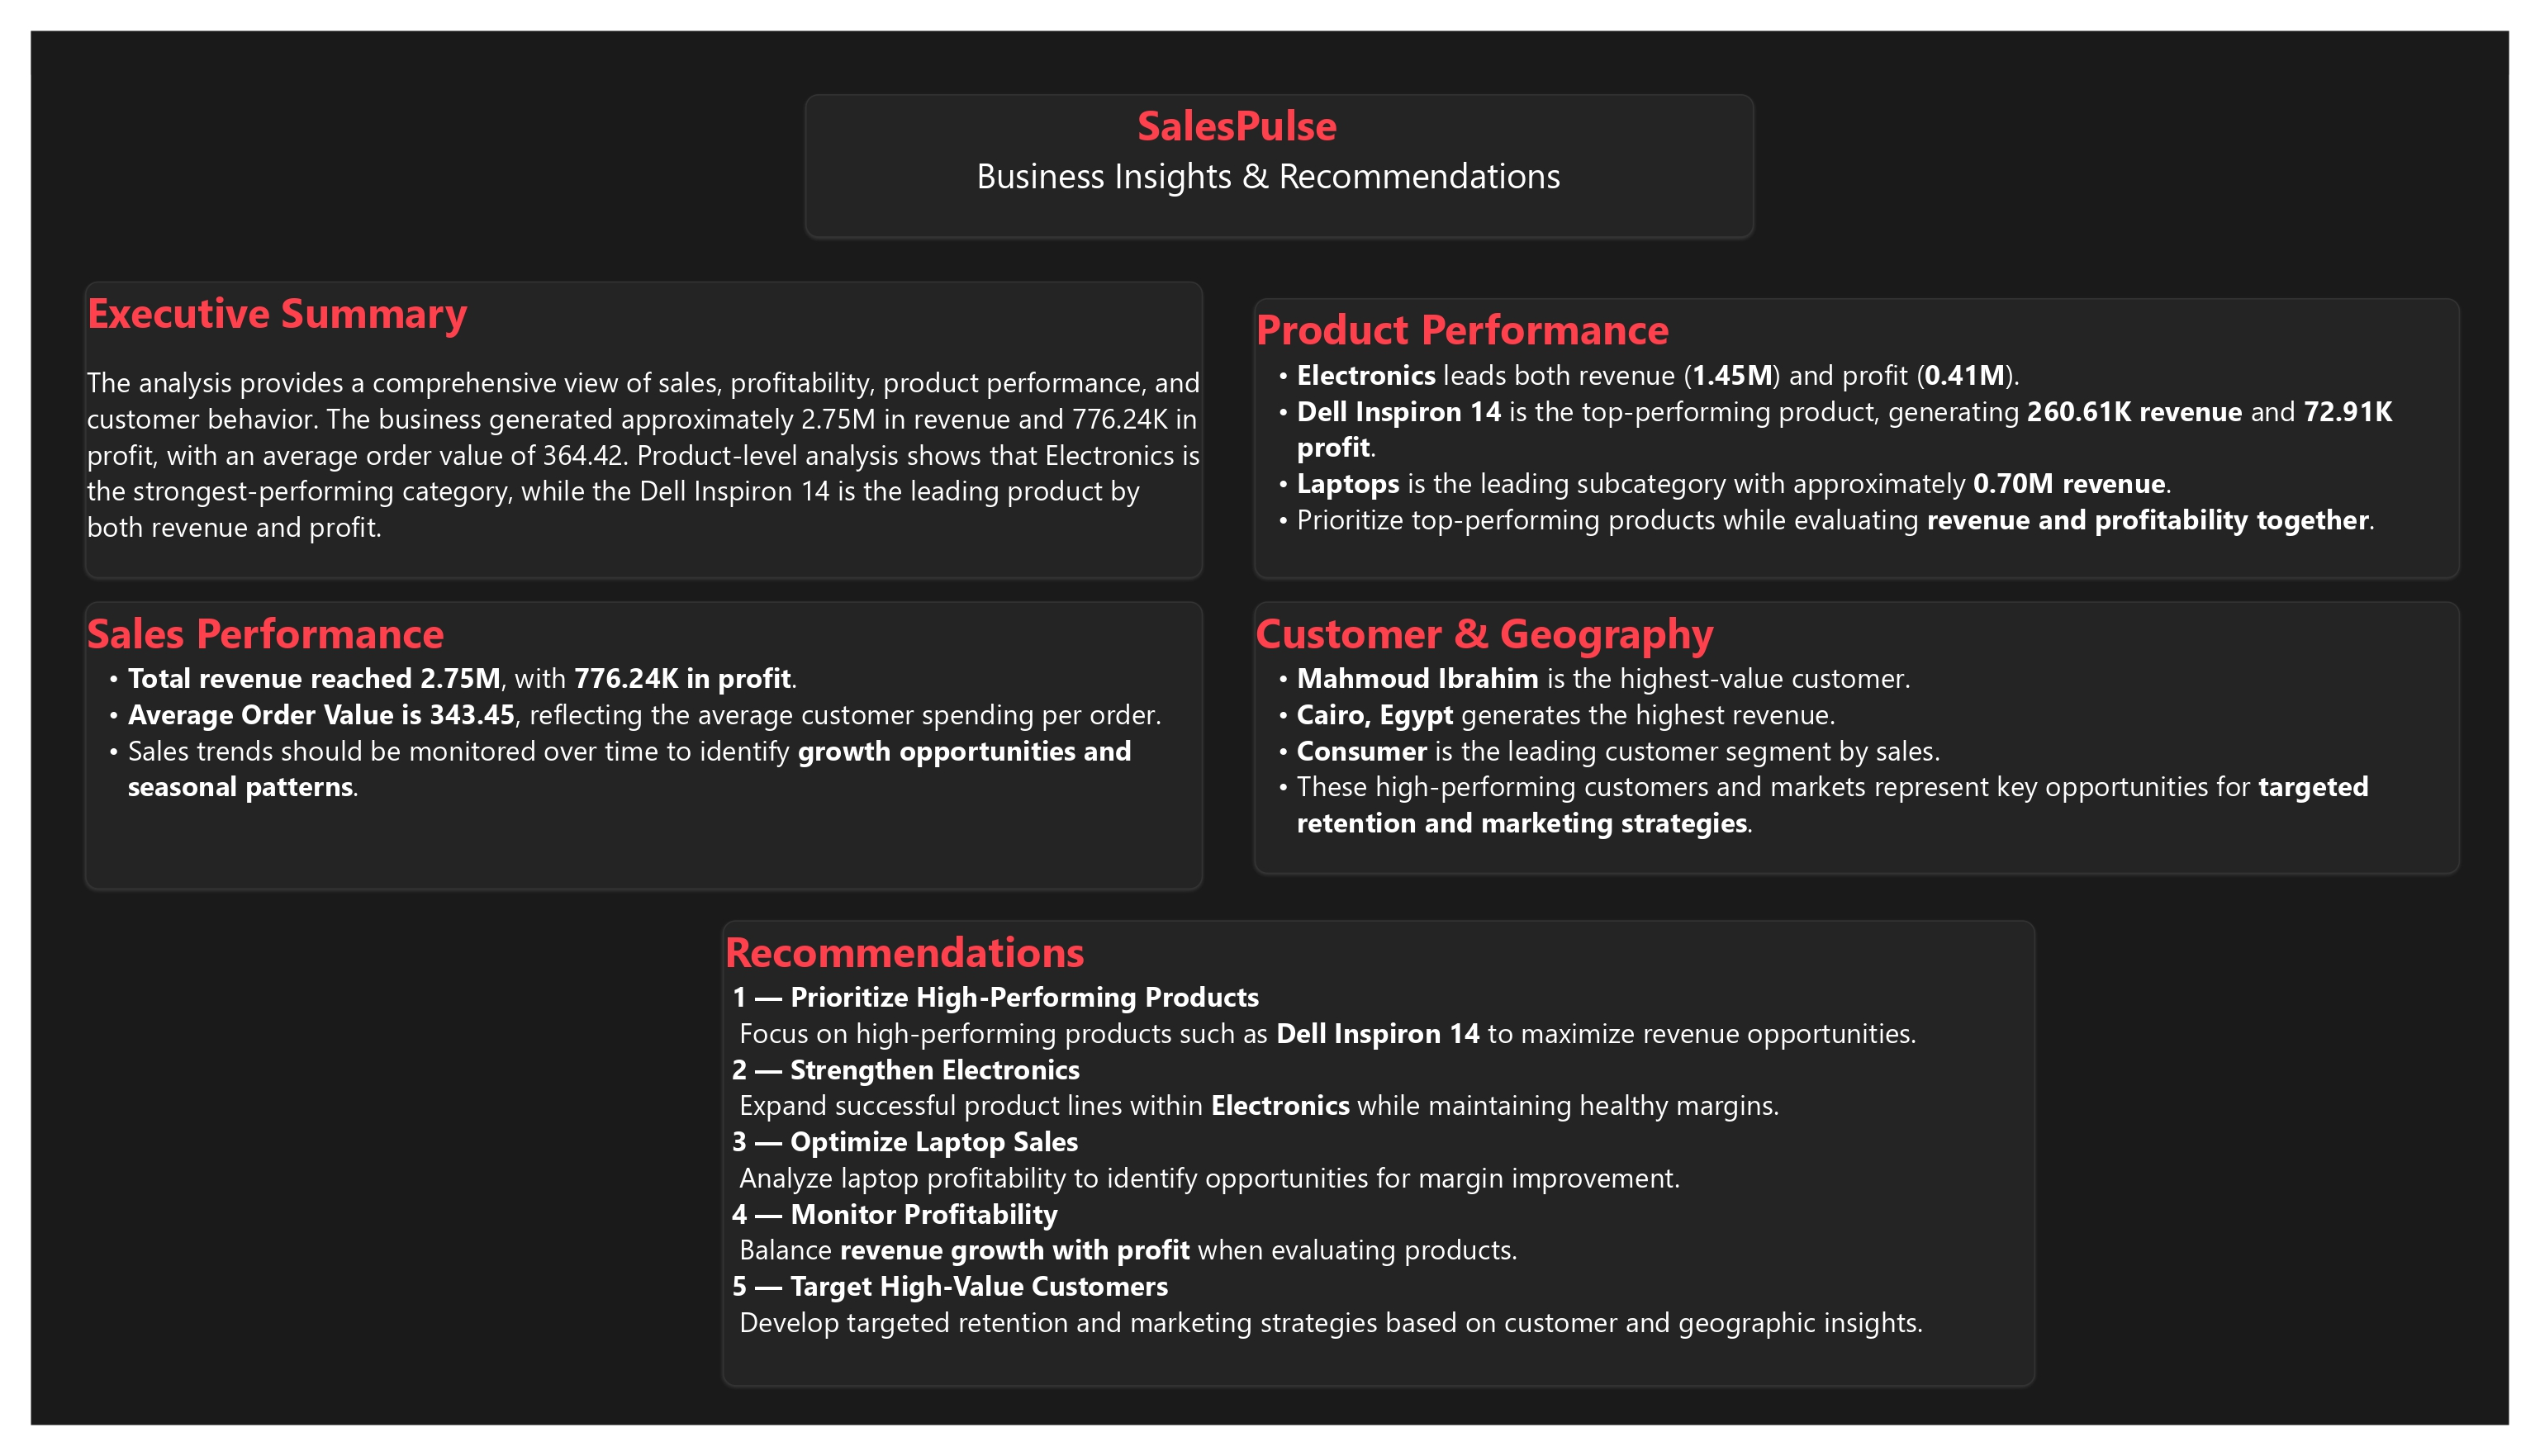

The dashboard page shown, as its layout file describes it:
{"tool":"powerbi","page":{"name":"Business Insights","canvas":[1920,1080],"ordinal":4},"visuals":[{"type":"textbox","box":[600.1,49.4,735,110.1],"z":0},{"type":"textbox","box":[41.8,193.7,866,229.8],"z":1000},{"type":"textbox","box":[41.8,442.5,866,222.2],"z":2000},{"type":"textbox","box":[947.7,207,934.4,216.5],"z":3000},{"type":"textbox","box":[947.7,442.5,934.4,210.8],"z":4000},{"type":"textbox","box":[535.5,689.4,1017.9,360.8],"z":5000}]}

Visuals, with their boxes on the page's 1920x1080 design canvas (x1, y1, x2, y2). These are canvas units, not pixel positions in the 2540x1456 screenshot, which may show the page scaled, cropped or inside an application window:
textbox: Rect(600, 49, 1335, 160)
textbox: Rect(42, 194, 908, 424)
textbox: Rect(42, 442, 908, 665)
textbox: Rect(948, 207, 1882, 424)
textbox: Rect(948, 442, 1882, 653)
textbox: Rect(536, 689, 1553, 1050)
